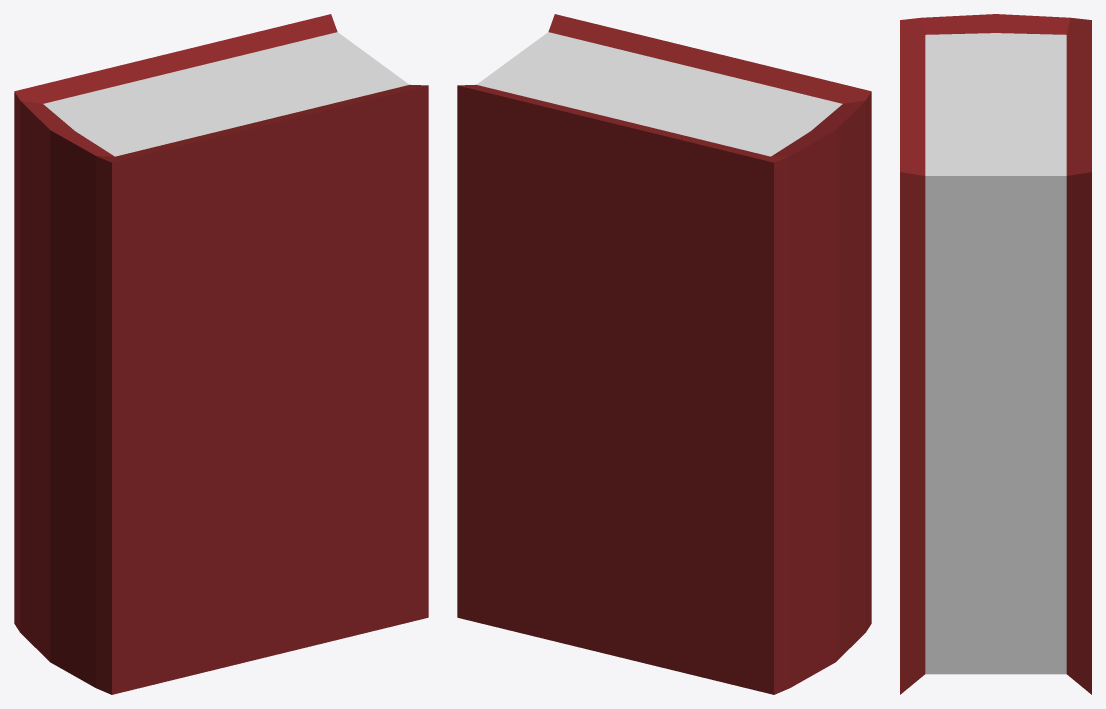
The model's file is redbook.fbx.
3 views of the same model, side by side, from view 1: azimuth 30°, elevation 25°; view 2: azimuth 150°, elevation 25°; view 3: azimuth 270°, elevation 25° (orthographic).
Visible parts, largest first — view 1: Book02; view 2: Book02; view 3: Book02.
Part boxes in pixels (x1,y1,x2,y2): Book02: (14, 14, 428, 694); Book02: (457, 14, 871, 694); Book02: (900, 14, 1091, 694).
Size of the model in its own units: 41.95 by 64.72 by 21.5.
